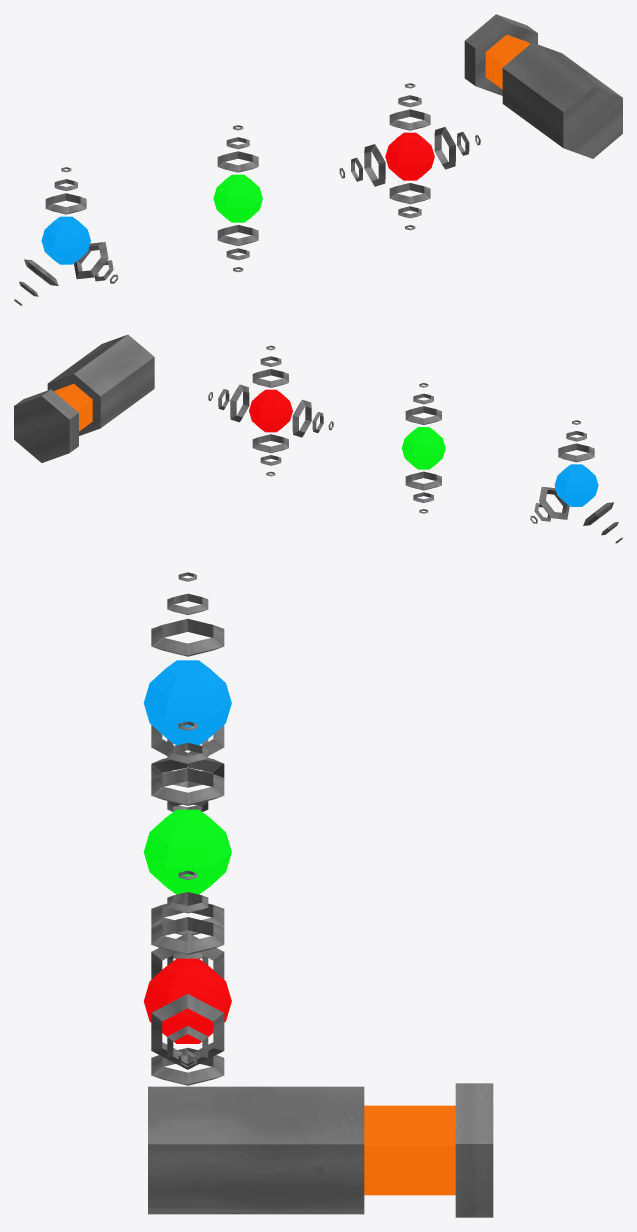
The model's file is artifacts.glb.
3 renders of one model, top to bottom at view 1: azimuth 30°, elevation 25°; view 2: azimuth 150°, elevation 25°; view 3: azimuth 270°, elevation 25°, orthographic. The views are drawn at different scales.
Parts seen in each view (by area): view 1: cannon, red_orb, blue_orb, green_orb; view 2: cannon, red_orb, blue_orb, green_orb; view 3: cannon, red_orb, blue_orb, green_orb.
Boxes of the visible parts, <box> form: cannon: <box>464,14,622,158</box>; red_orb: <box>339,83,480,230</box>; blue_orb: <box>14,167,118,305</box>; green_orb: <box>213,125,262,272</box>; cannon: <box>14,334,154,462</box>; red_orb: <box>208,345,333,476</box>; blue_orb: <box>530,420,622,543</box>; green_orb: <box>401,383,445,513</box>; cannon: <box>148,1083,493,1217</box>; red_orb: <box>143,870,231,1085</box>; blue_orb: <box>143,572,231,811</box>; green_orb: <box>143,721,231,958</box>.
Size of the model in its own units: 6.96 by 1.6 by 1.98.
5 materials, 1 textured.
